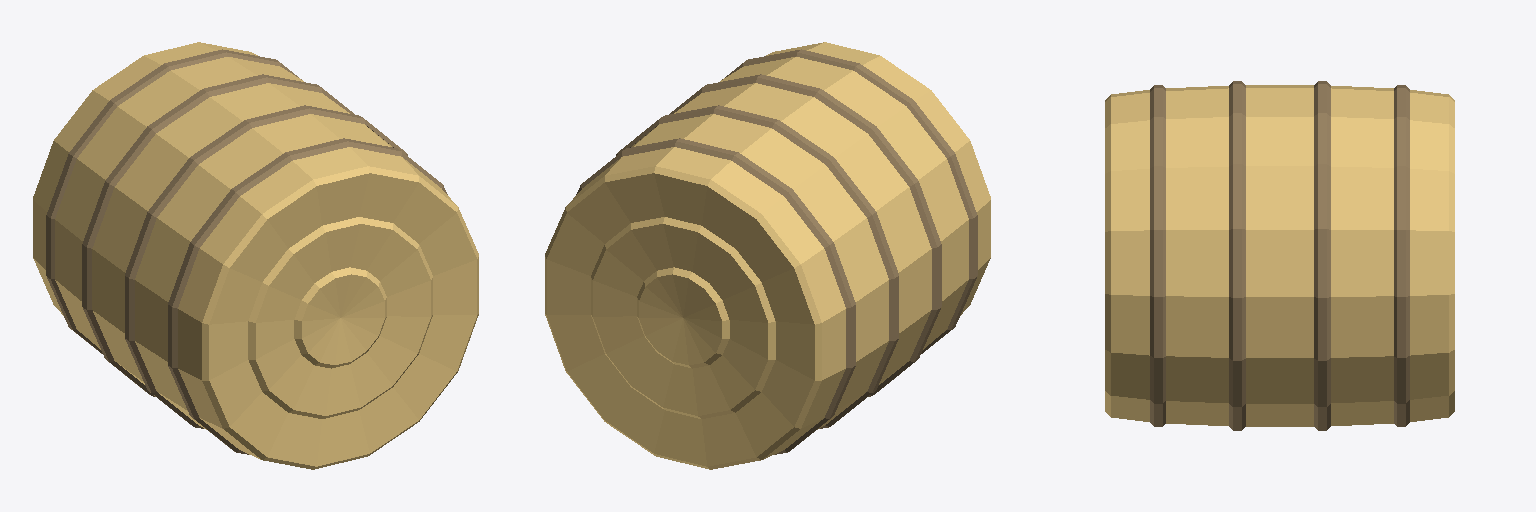
The model's file is Prop_Decorative_Hay_Bale_Barrel.obj.
3 views of the same model, side by side, from view 1: azimuth 30°, elevation 25°; view 2: azimuth 150°, elevation 25°; view 3: azimuth 270°, elevation 25° (orthographic).
Visible parts, largest first — view 1: Bale_End, Bale_Center, Strap; view 2: Bale_End, Bale_Center, Strap; view 3: Bale_Center, Strap, Bale_End.
Part boxes in pixels (x1,y1,x2,y2): Bale_End: (202, 166, 478, 469); Bale_Center: (33, 42, 456, 459); Strap: (46, 49, 447, 454); Bale_End: (545, 166, 821, 469); Bale_Center: (567, 42, 990, 459); Strap: (576, 49, 977, 454); Bale_Center: (1111, 85, 1448, 426); Strap: (1150, 81, 1409, 430); Bale_End: (1105, 95, 1454, 416).
Bounding box in the file's own units: 1.54 × 1.54 × 1.55.